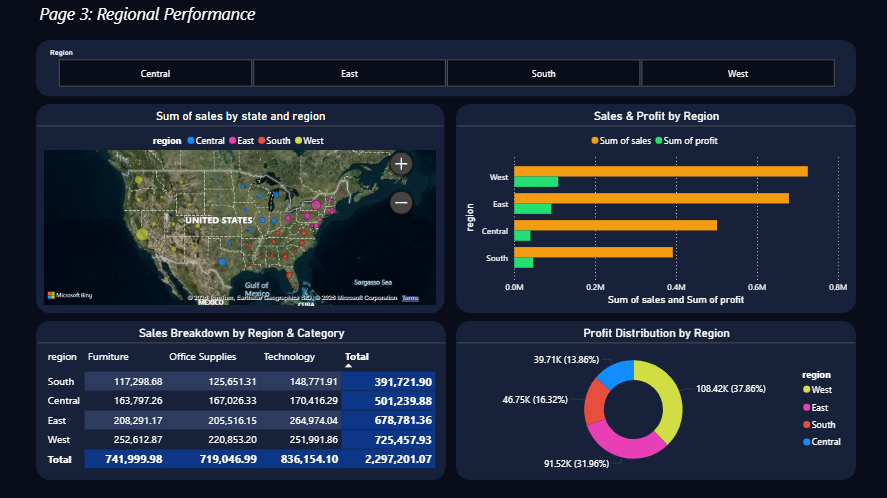

Layout of this report page (visuals, bound fields, positions):
{"tool":"powerbi","page":{"name":"Regional Performance","canvas":[1280,720],"ordinal":2},"visuals":[{"type":"map","fields":{"Category":["public vw_sales_summary.state"],"Series":["public vw_sales_summary.region"],"Size":["Sum(public vw_sales_summary.sales)"]},"box":[51.8,152.6,587.5,301],"z":0},{"type":"clusteredBarChart","title":"Sales & Profit by Region","fields":{"Category":["public vw_sales_summary.region"],"Y":["Sum(public vw_sales_summary.sales)","Sum(public vw_sales_summary.profit)"]},"box":[656.6,152.6,576,301],"z":1000},{"type":"pivotTable","title":"Sales Breakdown by Region & Category","fields":{"Rows":["public vw_sales_summary.region"],"Columns":["public vw_sales_summary.category"],"Values":["Sum(public vw_sales_summary.sales)"]},"box":[51.8,465.1,590.4,229],"z":2000},{"type":"donutChart","title":"Profit Distribution by Region","fields":{"Category":["public vw_sales_summary.region"],"Y":["Sum(public vw_sales_summary.profit)"]},"box":[656.6,465.1,576,229],"z":3000},{"type":"slicer","fields":{"Values":["public vw_sales_summary.region"]},"box":[51.8,60.5,1180.8,80.6],"z":4000},{"type":"textbox","box":[51.8,0,370.1,53.3],"z":5000}]}

Visuals, with their boxes in screenshot pixels (x1, y1, x2, y2), scaled from the page's 1280x720 canvas onto the 887x498 screenshot:
map - public vw_sales_summary.state x public vw_sales_summary.region: x1=36 y1=106 x2=443 y2=314
"Sales & Profit by Region" clusteredBarChart: x1=455 y1=106 x2=854 y2=314
"Sales Breakdown by Region & Category" pivotTable: x1=36 y1=322 x2=445 y2=480
"Profit Distribution by Region" donutChart: x1=455 y1=322 x2=854 y2=480
slicer - public vw_sales_summary.region: x1=36 y1=42 x2=854 y2=98
textbox: x1=36 y1=0 x2=292 y2=37
